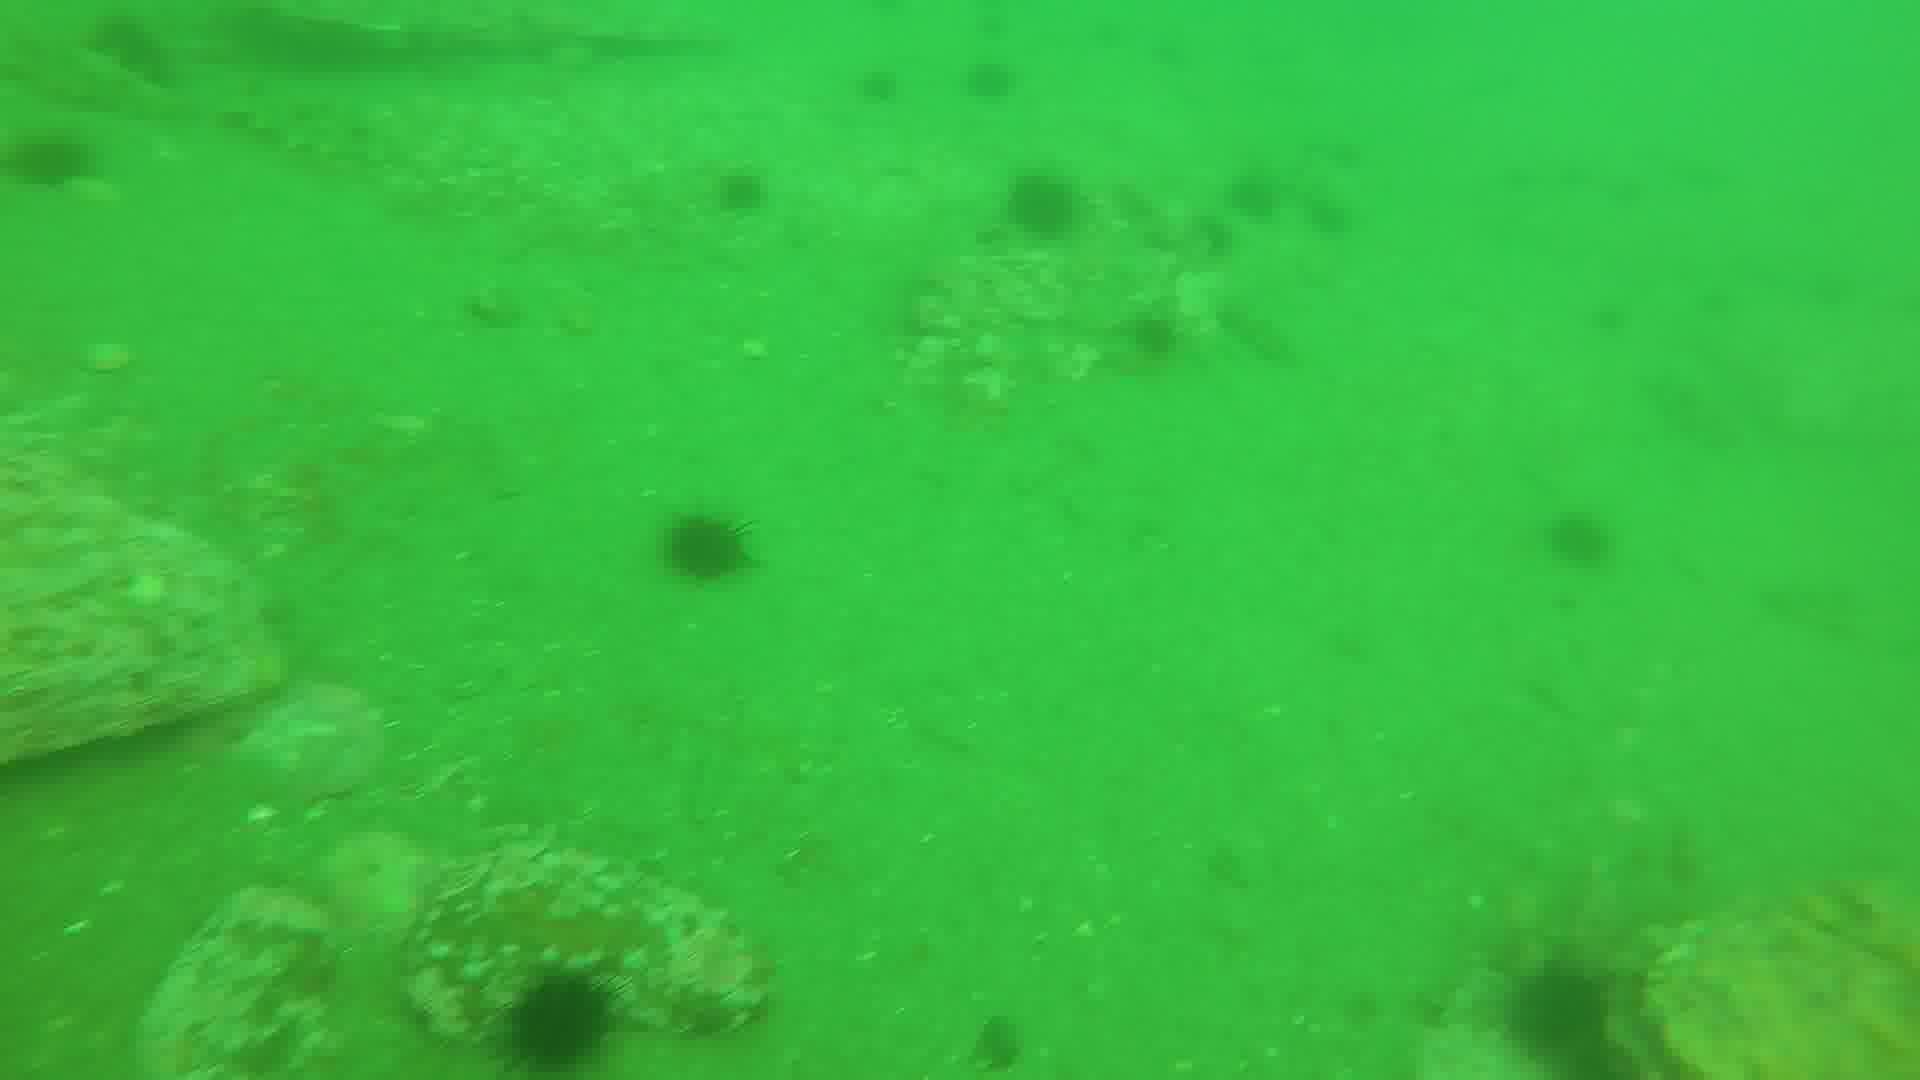echinus: (506, 971, 618, 1080), (1497, 959, 1611, 1056), (666, 502, 761, 589), (1, 124, 96, 196), (1004, 173, 1096, 243), (1226, 164, 1284, 231), (1561, 509, 1630, 562), (957, 57, 1026, 107), (1130, 309, 1182, 367), (721, 167, 767, 218), (861, 59, 903, 112)
holothurian: (1215, 294, 1311, 375)
